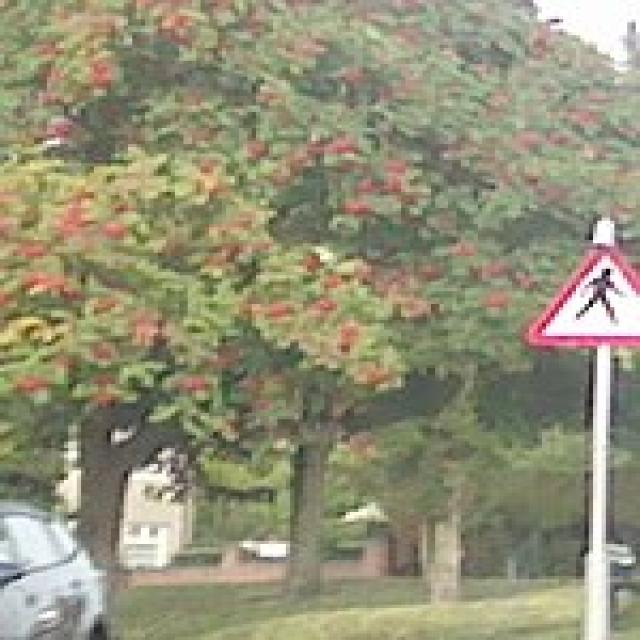Pedestrian crosswalk: (523, 239, 639, 348)
